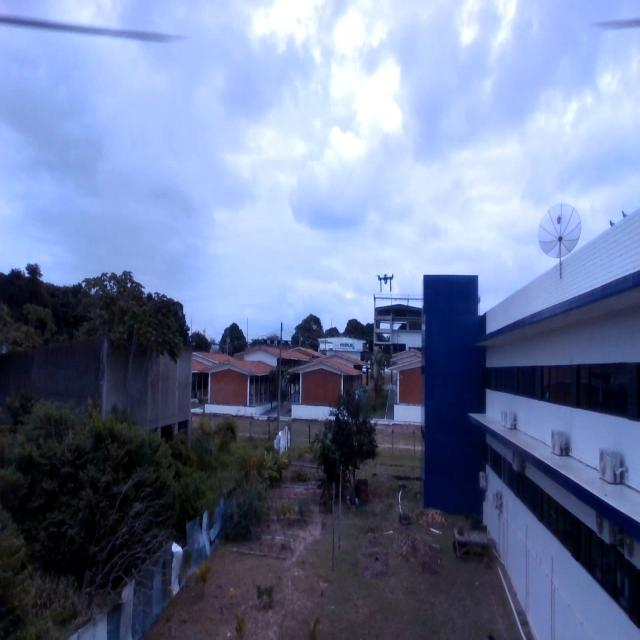-uav-: (373, 271, 392, 295)
